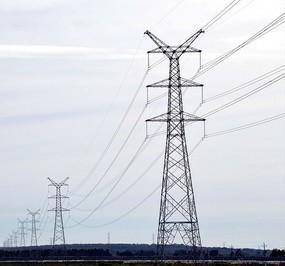power_tower: (140, 30, 218, 256), (46, 177, 77, 245), (24, 207, 42, 246), (16, 216, 30, 245)
